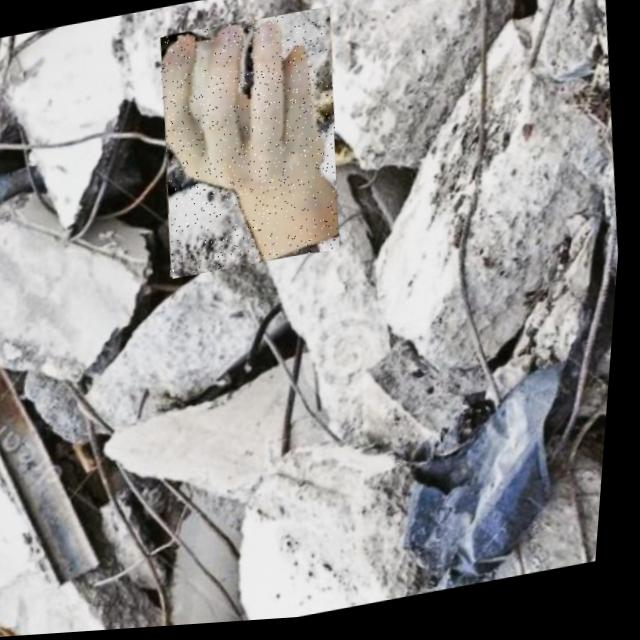Person in Rubble: (146, 8, 359, 282)
